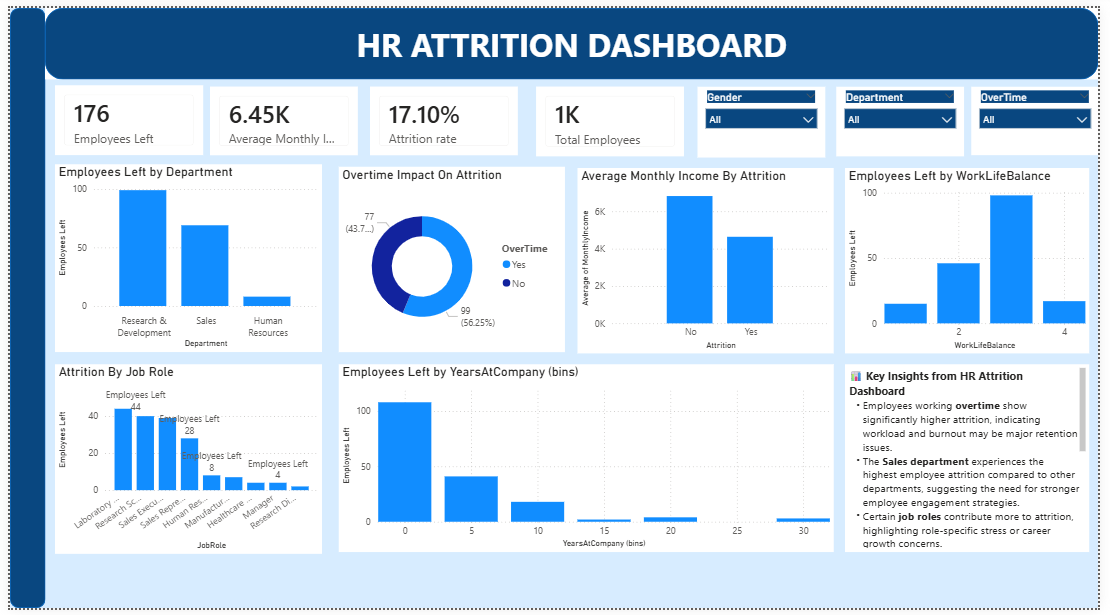

What the dashboard file says about the page in this screenshot:
{"tool":"powerbi","page":{"name":"Page 1","canvas":[1451,800],"ordinal":0},"visuals":[{"type":"cardVisual","fields":{"Data":["Count(employee_attrition (1).EmployeeNumber)"]},"box":[60,104.4,197.8,93.3],"z":0},{"type":"cardVisual","fields":{"Data":["employee_attrition (1).Employees Left"]},"box":[266.7,103.3,197.8,93.3],"z":1000},{"type":"cardVisual","fields":{"Data":["employee_attrition (1).Average Monthly Income"]},"box":[701.1,108.9,197.8,91.1],"z":2000},{"type":"cardVisual","fields":{"Data":["employee_attrition (1).Attrition rate(1)"]},"box":[480,105.7,197.1,91.4],"z":3000},{"type":"clusteredColumnChart","fields":{"Category":["employee_attrition (1).Department"],"Y":["employee_attrition (1).Employees Left"]},"box":[60,207.8,355.6,250],"z":4000},{"type":"donutChart","title":"Overtime Impact On Attrition ","fields":{"Category":["employee_attrition (1).OverTime"],"Y":["employee_attrition (1).Employees Left"]},"box":[438.6,211.4,301.4,247.1],"z":5000},{"type":"clusteredColumnChart","title":"Attrition By Job Role ","fields":{"Category":["employee_attrition (1).JobRole"],"Y":["employee_attrition (1).Employees Left"]},"box":[60,475.6,355.6,252.2],"z":6000},{"type":"columnChart","fields":{"Category":["employee_attrition (1).WorkLifeBalance"],"Y":["employee_attrition (1).Employees Left"]},"box":[1112.9,212.9,325.7,247.1],"z":7000},{"type":"clusteredColumnChart","title":"Average Monthly Income By Attrition ","fields":{"Category":["employee_attrition (1).Attrition"],"Y":["Avg(employee_attrition (1).MonthlyIncome)"]},"box":[757.1,212.9,341.4,247.1],"z":8000},{"type":"clusteredColumnChart","fields":{"Category":["employee_attrition (1).YearsAtCompany (bins)"],"Y":["employee_attrition (1).Employees Left"]},"box":[438.6,474.3,660,250],"z":9000},{"type":"slicer","fields":{"Values":["employee_attrition (1).Gender"]},"box":[917.1,105.7,170,94.3],"z":10000},{"type":"shape","box":[0,0,47.3,800],"z":11000},{"type":"shape","box":[47.3,0,1404.5,95.5],"z":12000},{"type":"textbox","box":[1112.9,475.7,325.7,250],"z":13000},{"type":"slicer","fields":{"Values":["employee_attrition (1).Department"]},"box":[1101.4,105.7,170,92.9],"z":14000},{"type":"slicer","fields":{"Values":["employee_attrition (1).OverTime"]},"box":[1281.4,105.7,170,91.4],"z":15000}]}

Visuals, with their boxes in screenshot pixels (x1, y1, x2, y2), scaled from the page's 1451x800 canvas onto the 1110x615 screenshot:
cardVisual - Count(employee_attrition (1).EmployeeNumber): (46,80,197,152)
cardVisual - employee_attrition (1).Employees Left: (204,79,355,151)
cardVisual - employee_attrition (1).Average Monthly Income: (536,84,688,154)
cardVisual - employee_attrition (1).Attrition rate(1): (367,81,518,152)
clusteredColumnChart - employee_attrition (1).Department x employee_attrition (1).Employees Left: (46,160,318,352)
"Overtime Impact On Attrition " donutChart: (336,163,566,352)
"Attrition By Job Role " clusteredColumnChart: (46,366,318,559)
columnChart - employee_attrition (1).WorkLifeBalance x employee_attrition (1).Employees Left: (851,164,1101,354)
"Average Monthly Income By Attrition " clusteredColumnChart: (579,164,840,354)
clusteredColumnChart - employee_attrition (1).YearsAtCompany (bins) x employee_attrition (1).Employees Left: (336,365,840,557)
slicer - employee_attrition (1).Gender: (702,81,832,154)
shape: (0,0,36,614)
shape: (36,0,1109,73)
textbox: (851,366,1101,558)
slicer - employee_attrition (1).Department: (843,81,973,153)
slicer - employee_attrition (1).OverTime: (980,81,1109,152)
